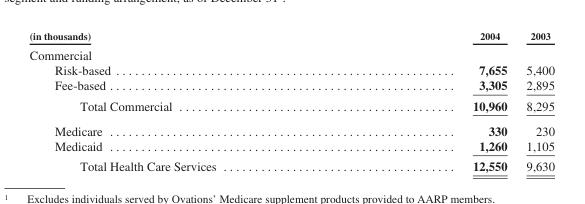table: (28, 29, 553, 172)
table column: (28, 29, 343, 172), (343, 29, 516, 172), (516, 29, 553, 172)
table column header: (28, 29, 553, 44)
table projected row header: (28, 44, 553, 62)
table row: (28, 94, 553, 117), (28, 117, 553, 137), (28, 44, 553, 62), (28, 137, 553, 155), (28, 77, 553, 94), (28, 155, 553, 172), (28, 29, 553, 44), (28, 62, 553, 77)
